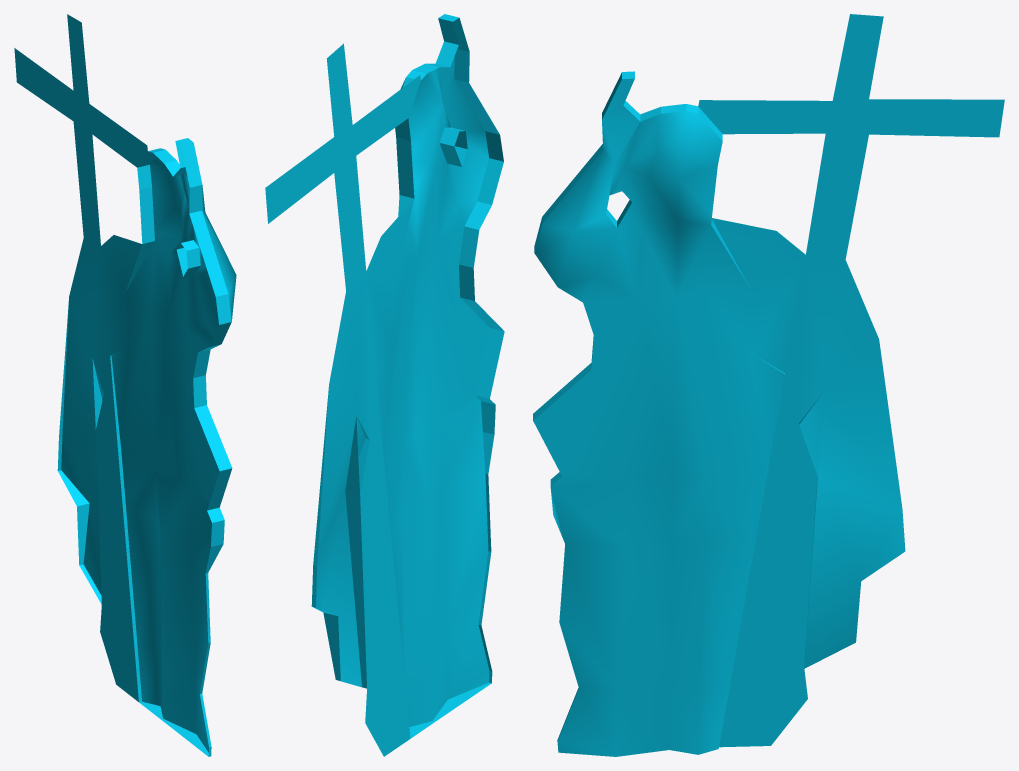
The picture shows the model from 3 angles, left to right: view 1: azimuth 30°, elevation 25°; view 2: azimuth 150°, elevation 25°; view 3: azimuth 270°, elevation 25°; orthographic projection. The views are drawn at different scales.
Visible parts, largest first — view 1: Object076; view 2: Object076; view 3: Object076.
Part boxes in pixels (left/top/right/bottom): Object076: left=14, top=14, right=236, bottom=756; Object076: left=265, top=14, right=504, bottom=756; Object076: left=533, top=14, right=1004, bottom=756.
Size of the model in its own units: 26.87 by 481 by 279.
